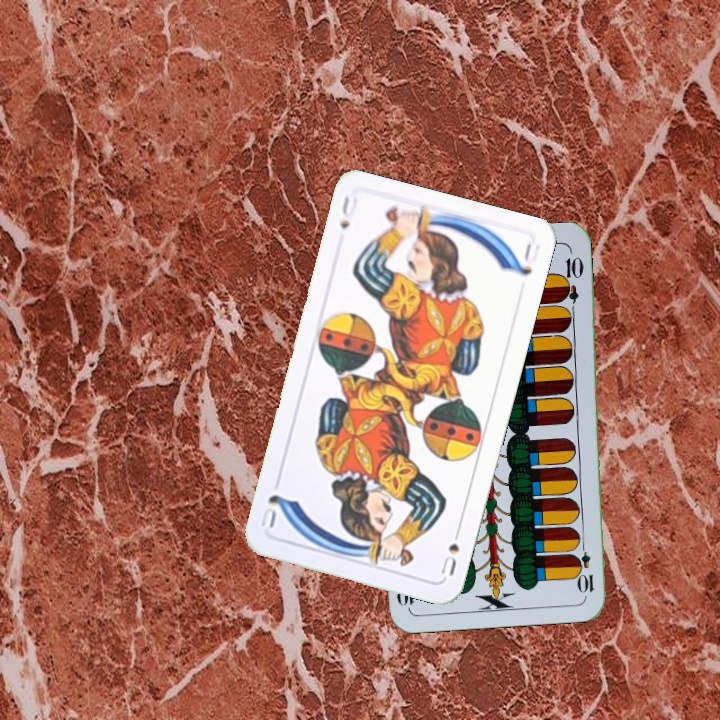E10: (575, 536, 596, 596)
SU: (437, 522, 463, 578), (336, 192, 361, 232)
